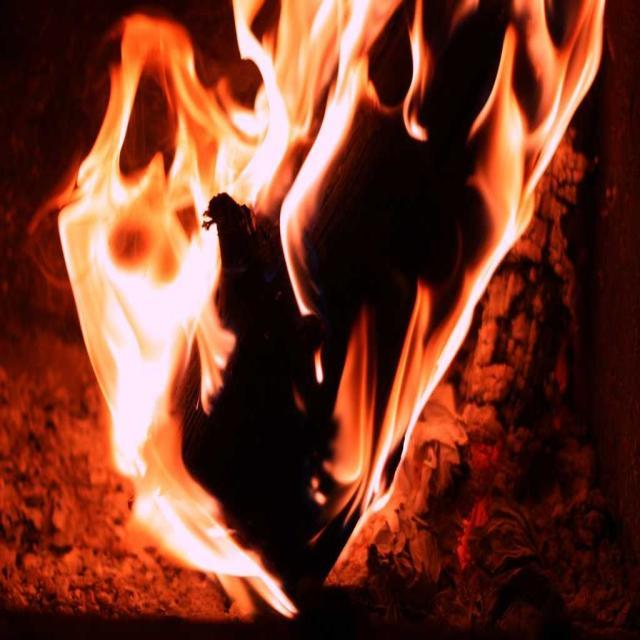Fire: (61, 0, 611, 639)
